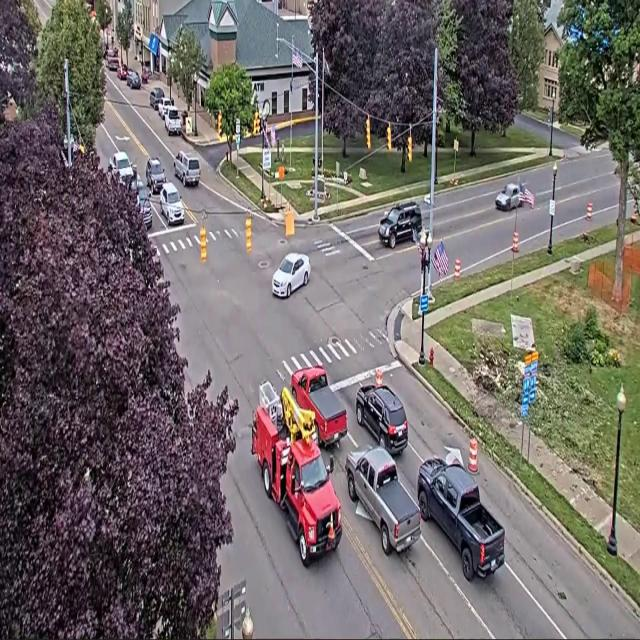car: (356, 385, 408, 454), (378, 202, 421, 248), (272, 253, 310, 297), (130, 179, 152, 230), (160, 183, 184, 225), (174, 152, 200, 186), (109, 152, 136, 183), (495, 183, 521, 212), (146, 158, 166, 193), (165, 107, 181, 135), (157, 96, 173, 119), (150, 87, 164, 110), (126, 69, 142, 89), (106, 55, 120, 71), (117, 64, 128, 79)
traffic signal: (245, 213, 251, 252), (200, 225, 206, 262), (386, 123, 392, 151), (253, 112, 259, 135), (366, 117, 370, 149), (408, 132, 412, 161), (218, 112, 222, 136)
truck: (251, 381, 341, 567), (418, 458, 504, 581), (346, 447, 420, 555), (291, 367, 347, 447), (164, 106, 181, 135)
